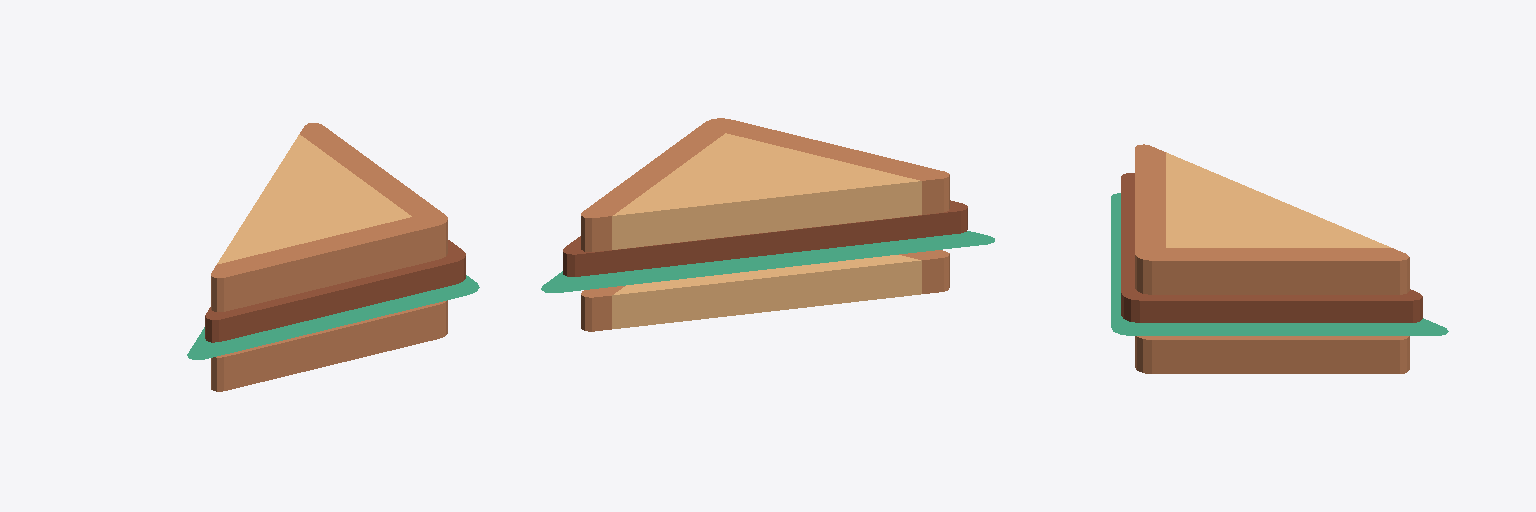
Rendered from sandwich.obj.
3 renders of one model, left to right at view 1: azimuth 30°, elevation 25°; view 2: azimuth 150°, elevation 25°; view 3: azimuth 270°, elevation 25°, orthographic.
Parts seen in each view (by area): view 1: sandwich, meat, lettuce; view 2: sandwich, meat, lettuce; view 3: sandwich, meat, lettuce.
Part boxes in pixels (left/top/right/bottom): sandwich: left=211, top=123, right=447, bottom=391; meat: left=205, top=240, right=465, bottom=342; lettuce: left=187, top=275, right=479, bottom=359; sandwich: left=581, top=118, right=949, bottom=331; meat: left=563, top=200, right=967, bottom=276; lettuce: left=541, top=231, right=994, bottom=292; sandwich: left=1135, top=144, right=1409, bottom=373; meat: left=1121, top=173, right=1422, bottom=322; lettuce: left=1111, top=193, right=1448, bottom=335.
Bounding box in the file's own units: 0.4339 × 0.1598 × 0.4323.